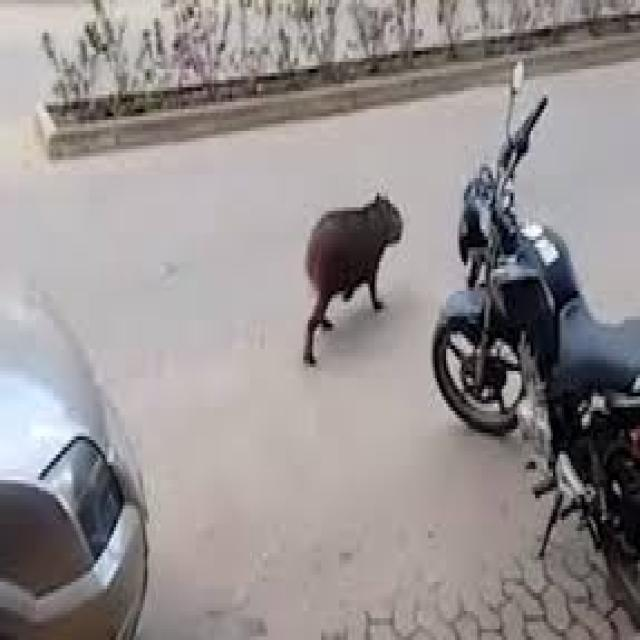capy: (302, 194, 403, 366)
